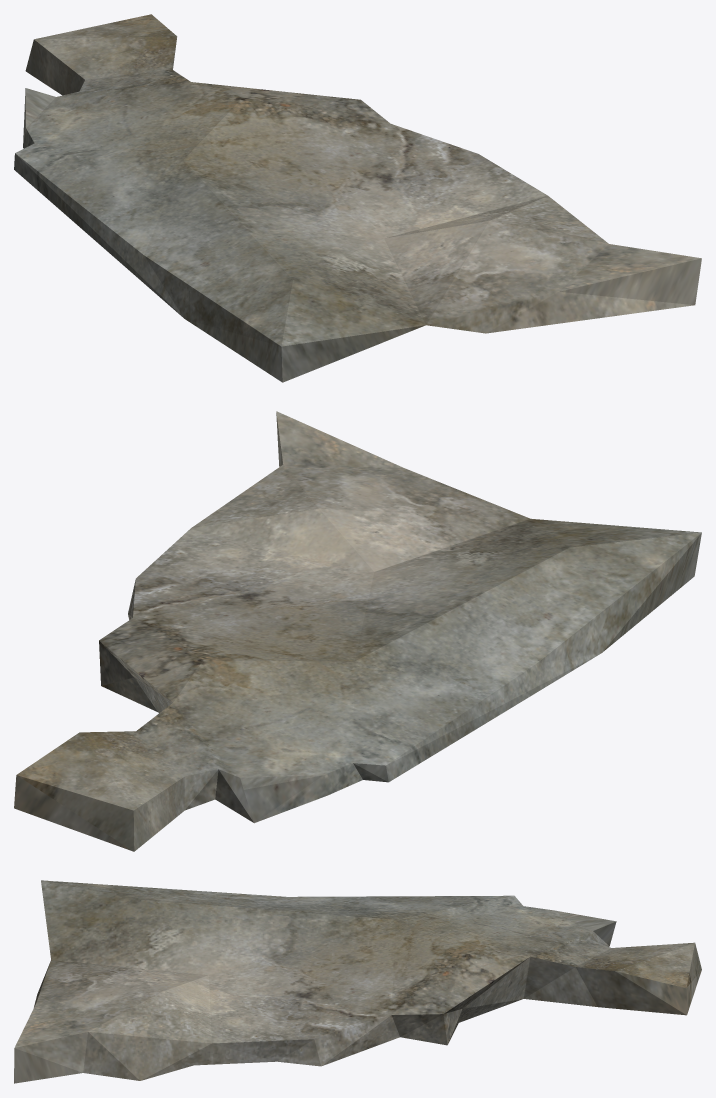
File: RUBBLE_PART2.obj
3 renders of one model, top to bottom at view 1: azimuth 30°, elevation 25°; view 2: azimuth 150°, elevation 25°; view 3: azimuth 270°, elevation 25°, orthographic. The views are drawn at different scales.
Parts seen in each view (by area): view 1: RUBBLE_PART2; view 2: RUBBLE_PART2; view 3: RUBBLE_PART2.
Boxes of the visible parts, x1,y1,x2,y2 form: RUBBLE_PART2: (14, 14, 701, 382); RUBBLE_PART2: (14, 411, 701, 851); RUBBLE_PART2: (14, 880, 701, 1083).
Size of the model in its own units: 2.66 by 0.4302 by 4.55.
